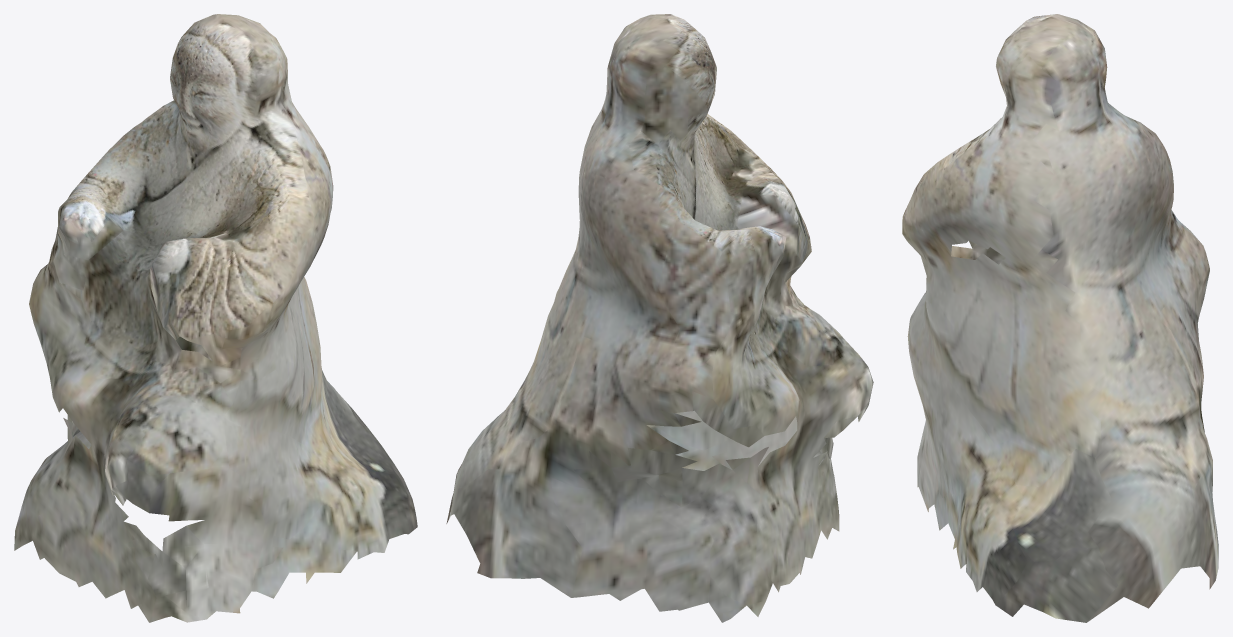
3 renders of one model, left to right at view 1: azimuth 30°, elevation 25°; view 2: azimuth 150°, elevation 25°; view 3: azimuth 270°, elevation 25°, orthographic. The views are drawn at different scales.
Parts seen in each view (by area): view 1: model; view 2: model; view 3: model.
Boxes of the visible parts, x1=… form: model: x1=14, y1=14, x2=417, y2=622; model: x1=446, y1=14, x2=873, y2=622; model: x1=902, y1=14, x2=1218, y2=622.
Bounding box in the file's own units: 1.7 × 2.47 × 1.37.
Materials: 1 (1 with a texture image).
